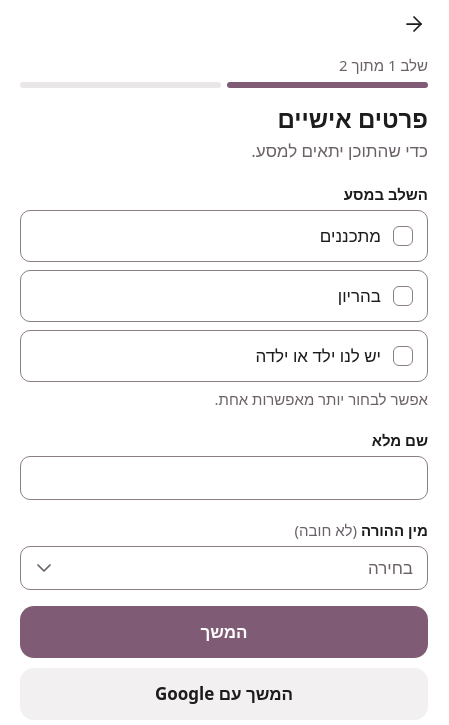
Test: F1.3 criterion 9 [AC-002 · ERR-003] invalid blocks the step, errors appear on submit › [AC-002][ERR-003] no message before the first "המשך"; then no stage + empty name: stays on step 1, aria-invalid, message linked, focus on the first invalid fiel
The image size is (449, 725).
Click the button "המשך" at (224, 632), box [20,606,428,658]
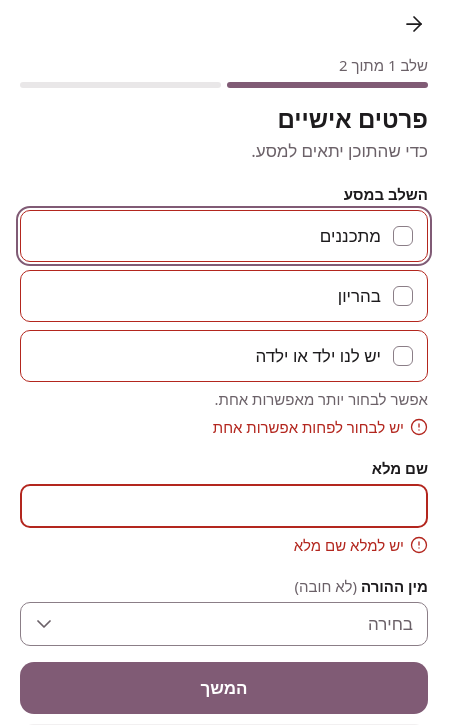
expect the heading reads "פרטים אישיים": met, box [278,102,428,135]
expect the text "יש למלא שם מלא" is shown: met, box [294,534,404,556]
